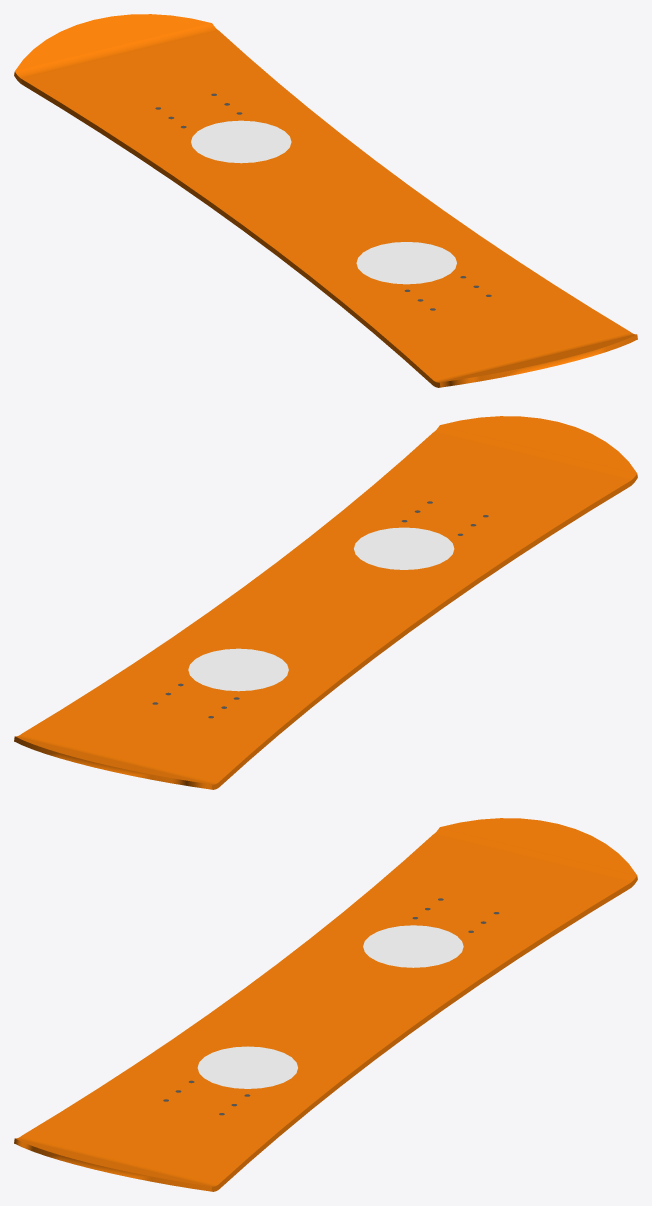
The model's file is snowboardOrange.fbx.
3 renders of one model, top to bottom at view 1: azimuth 30°, elevation 25°; view 2: azimuth 150°, elevation 25°; view 3: azimuth 330°, elevation 25°, orthographic.
Visible parts, largest first — view 1: Model; view 2: Model; view 3: Model.
Boxes of the visible parts, bbox=[...] form: Model: bbox=[14, 14, 637, 387]; Model: bbox=[14, 416, 637, 789]; Model: bbox=[14, 818, 637, 1191].
Size of the model in its own units: 46 by 4.64 by 188.
